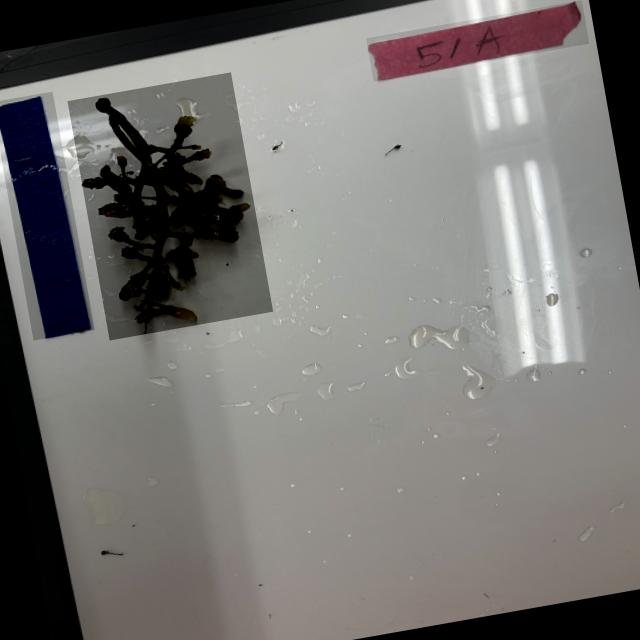index: (366, 0, 589, 81)
measure_label: (0, 91, 94, 340)
rachis_cluster: (67, 72, 273, 340)
